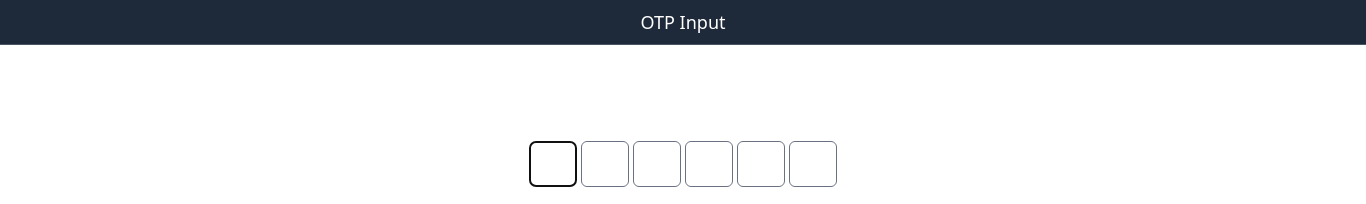
OtpInput Component › only keeps last digit if multiple entered
Type "123" into the field named "otp-value-0" at (553, 164), box [529, 141, 577, 187]
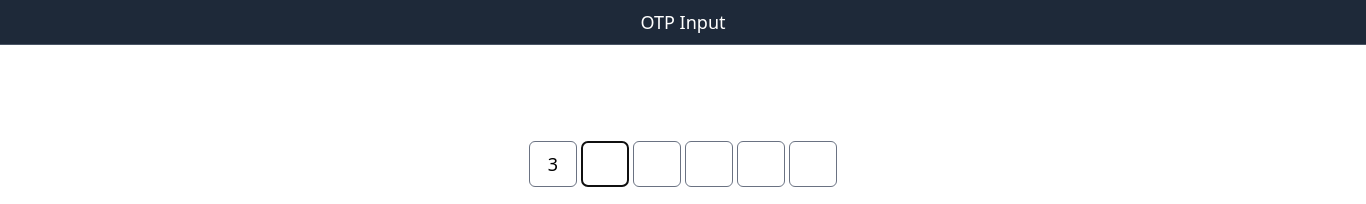
Now the field named "otp-value-0" holds "3", box [529, 141, 577, 187]
